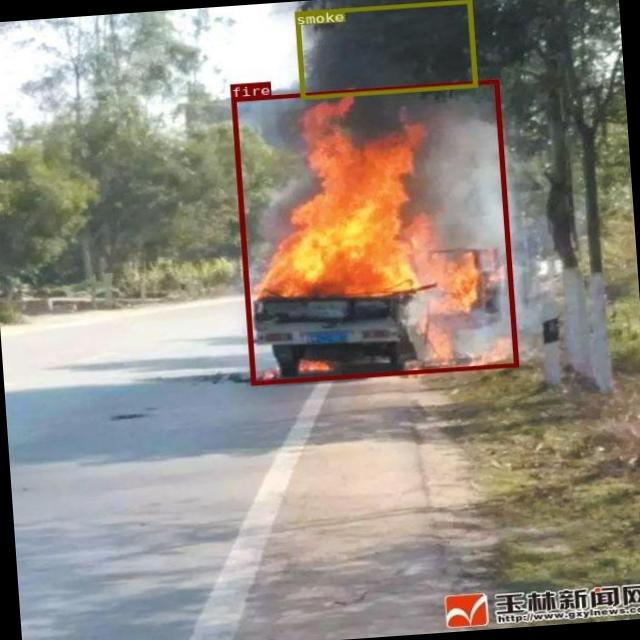fire: (230, 78, 516, 384)
smoke: (294, 0, 477, 99)
